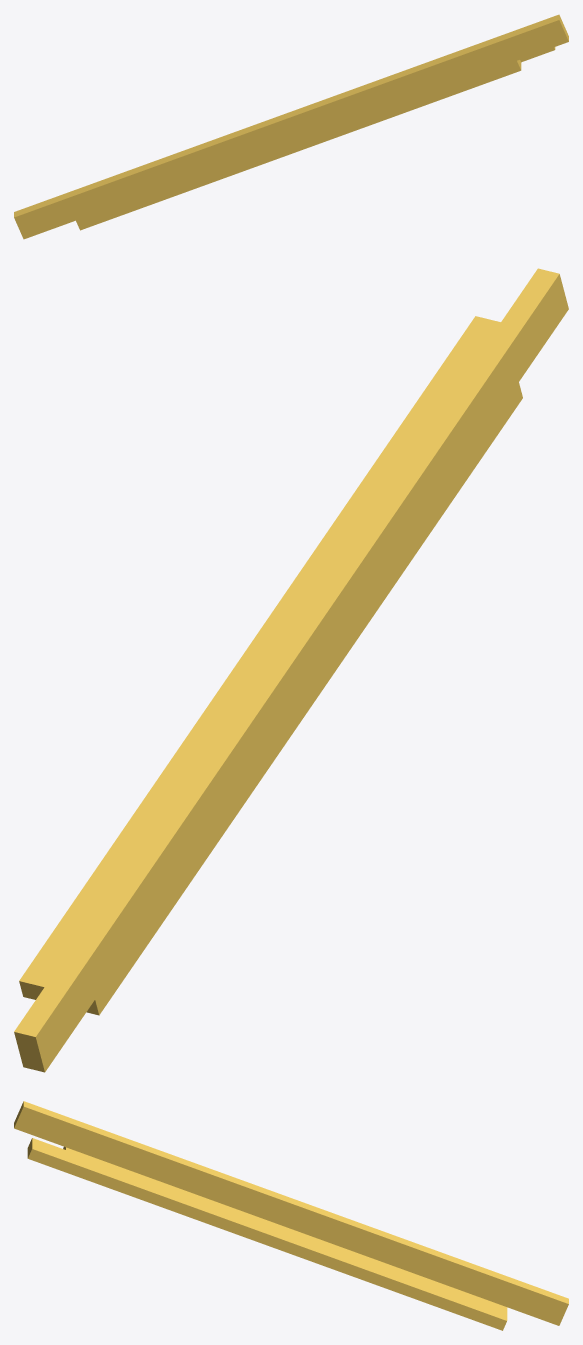
Rendered from original-28.obj.
3 renders of one model, top to bottom at view 1: azimuth 90°, elevation 25°; view 2: azimuth 150°, elevation 25°; view 3: azimuth 270°, elevation 25°, orthographic. The views are drawn at different scales.
Visible parts, largest first — view 1: Component_17_2/Component_17_1_2/mesh32/mesh32-geometry#mesh32-ge; view 2: Component_17_2/Component_17_1_2/mesh32/mesh32-geometry#mesh32-ge; view 3: Component_17_2/Component_17_1_2/mesh32/mesh32-geometry#mesh32-ge.
Boxes of the visible parts, <box> form: Component_17_2/Component_17_1_2/mesh32/mesh32-geometry#mesh32-ge: <box>14,14,568,239</box>; Component_17_2/Component_17_1_2/mesh32/mesh32-geometry#mesh32-ge: <box>14,268,568,1072</box>; Component_17_2/Component_17_1_2/mesh32/mesh32-geometry#mesh32-ge: <box>14,1101,568,1330</box>.
Size of the model in its own units: 0.0611 by 0.3239 by 0.7418.
